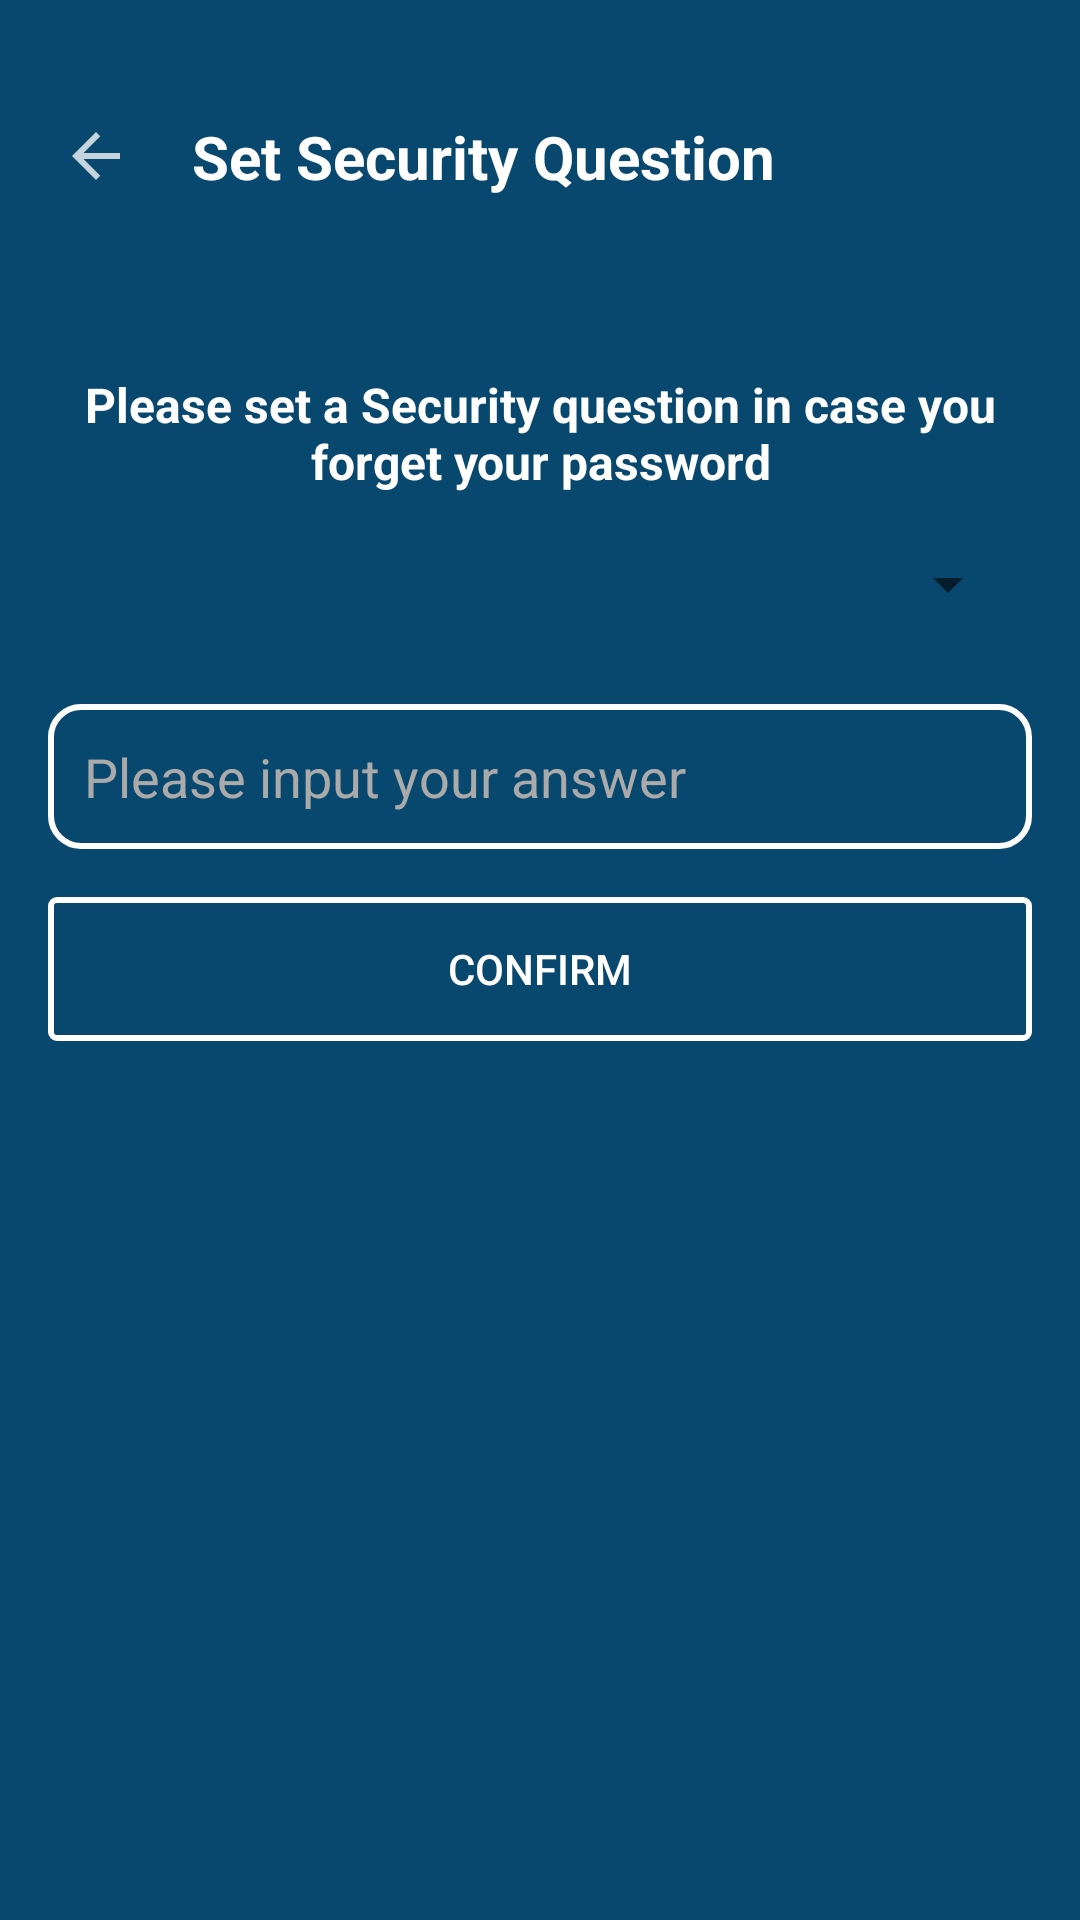

Named icons in this screenshot (1080x1920) and their centers, point (x, y):
arrow back: point (96, 156)
